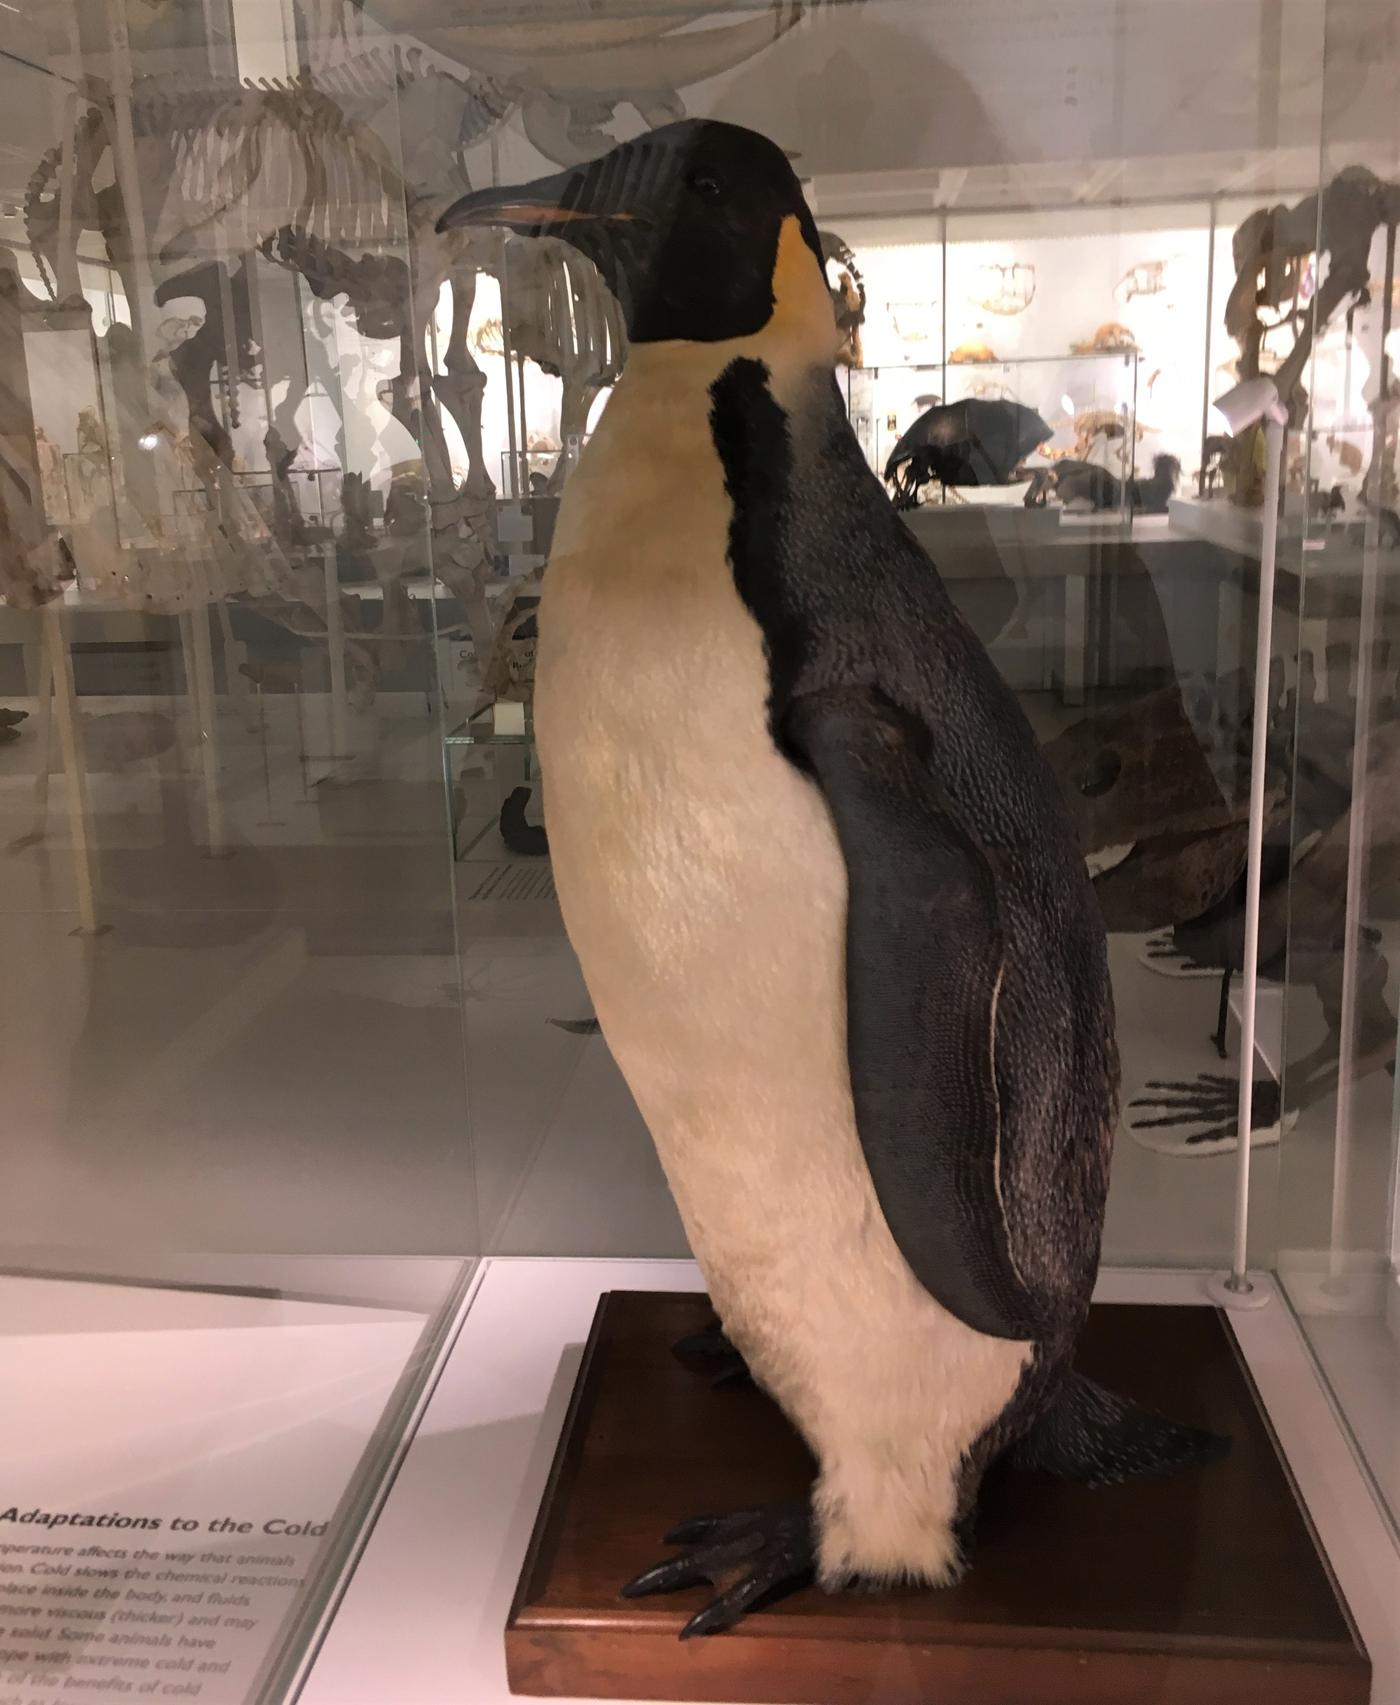emporer: (381, 67, 1304, 1705)
